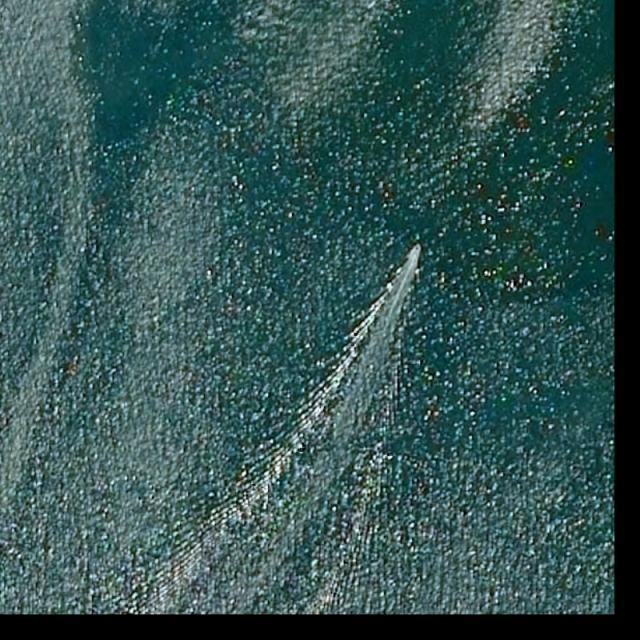ship: (414, 242, 422, 252)
